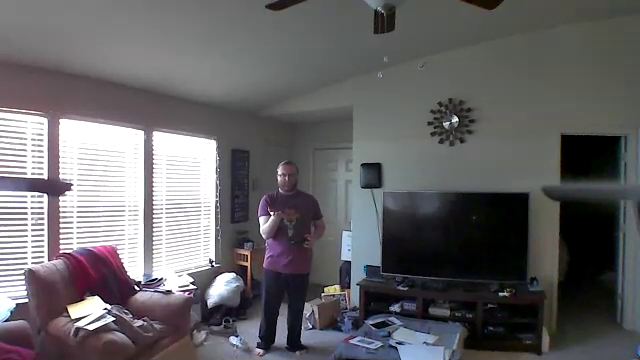land: (263, 203, 285, 224)
